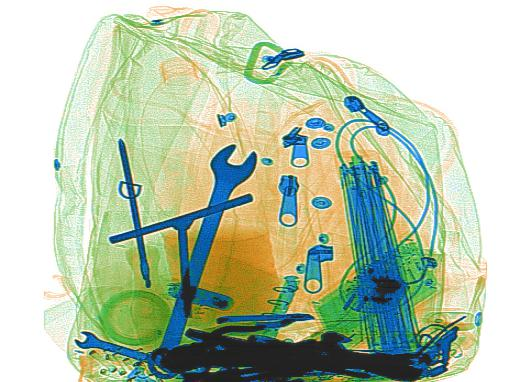pressure: (423, 311, 477, 332)
